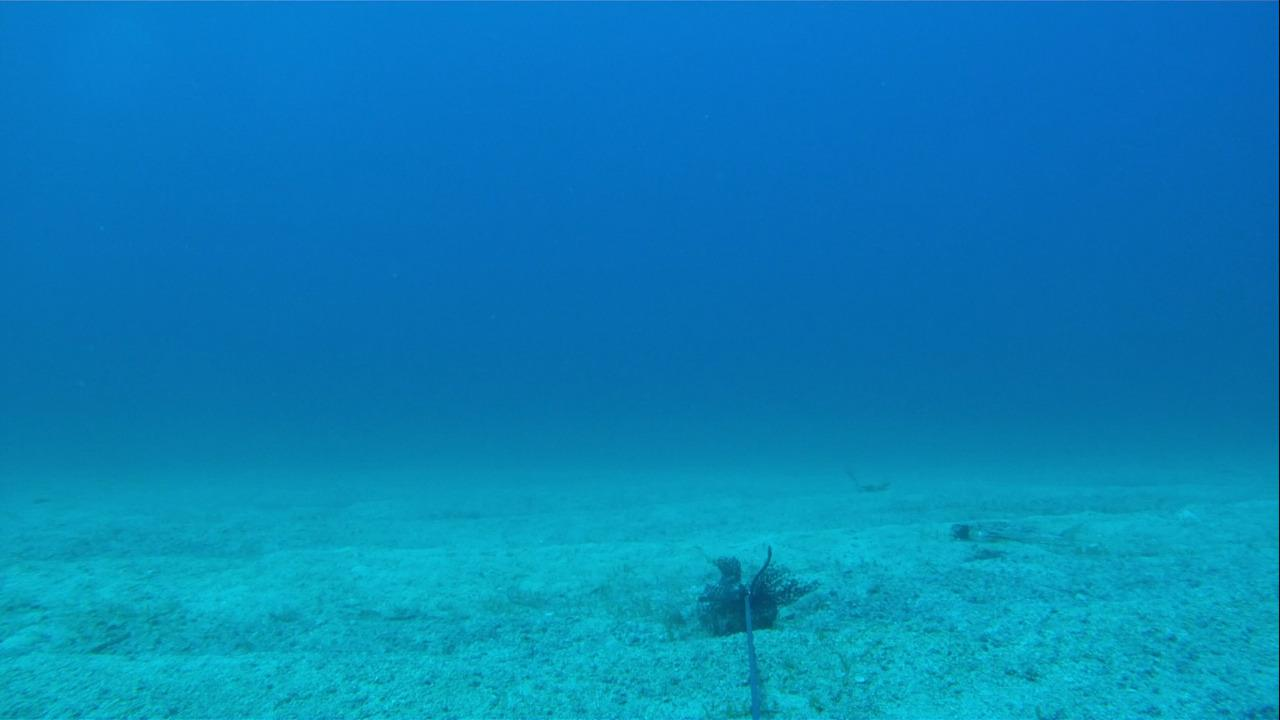dactylopterus: (935, 517, 1101, 560)
